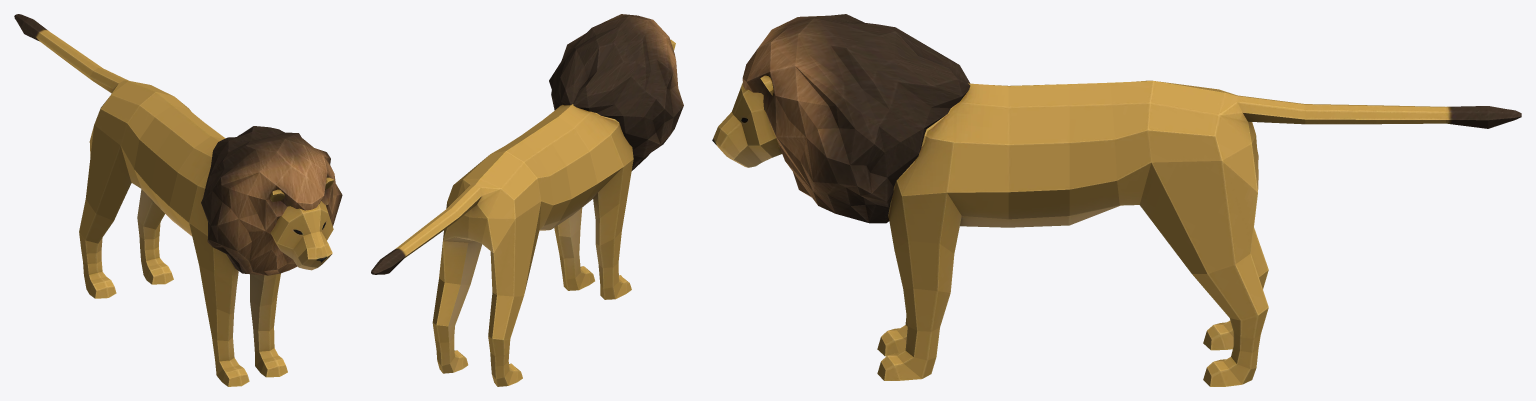
The model's file is lion.glb.
3 views of the same model, side by side, from view 1: azimuth 30°, elevation 25°; view 2: azimuth 150°, elevation 25°; view 3: azimuth 270°, elevation 25° (orthographic). The views are drawn at different scales.
Parts seen in each view (by area): view 1: Lion_mesh; view 2: Lion_mesh; view 3: Lion_mesh.
Part boxes in pixels (x1,y1,x2,y2): Lion_mesh: [14, 14, 342, 386]; Lion_mesh: [371, 14, 683, 386]; Lion_mesh: [712, 14, 1521, 386].
Bounding box in the file's own units: 0.5535 × 1.1 × 2.35.
Materials: 1 (1 with a texture image).
